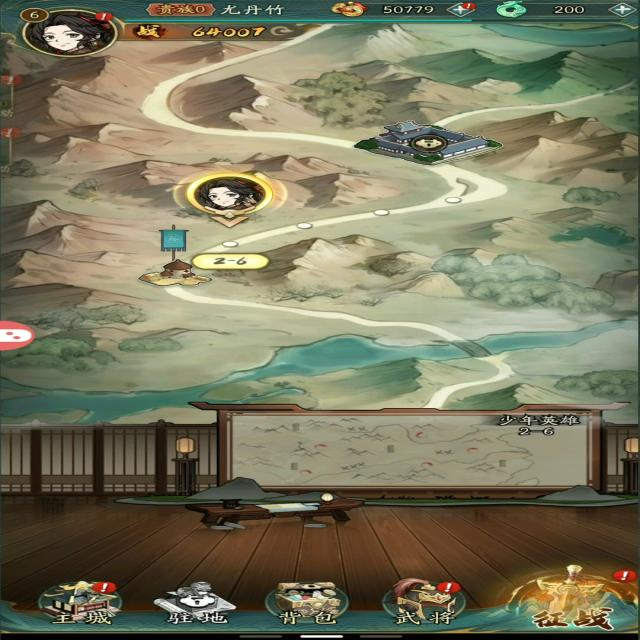hint-reddot: (430, 581, 464, 596), (610, 568, 640, 584), (87, 581, 119, 596), (89, 10, 116, 22), (463, 0, 481, 9)
navigation-bag: (258, 576, 356, 626)
navigation-fight: (505, 563, 640, 631)
navigation-hero: (375, 572, 480, 628)
navigation-main: (34, 576, 133, 625)
navigation-role: (12, 1, 133, 59)
navigation-station-off: (155, 579, 236, 628)
operation-Vip: (143, 2, 221, 20)
